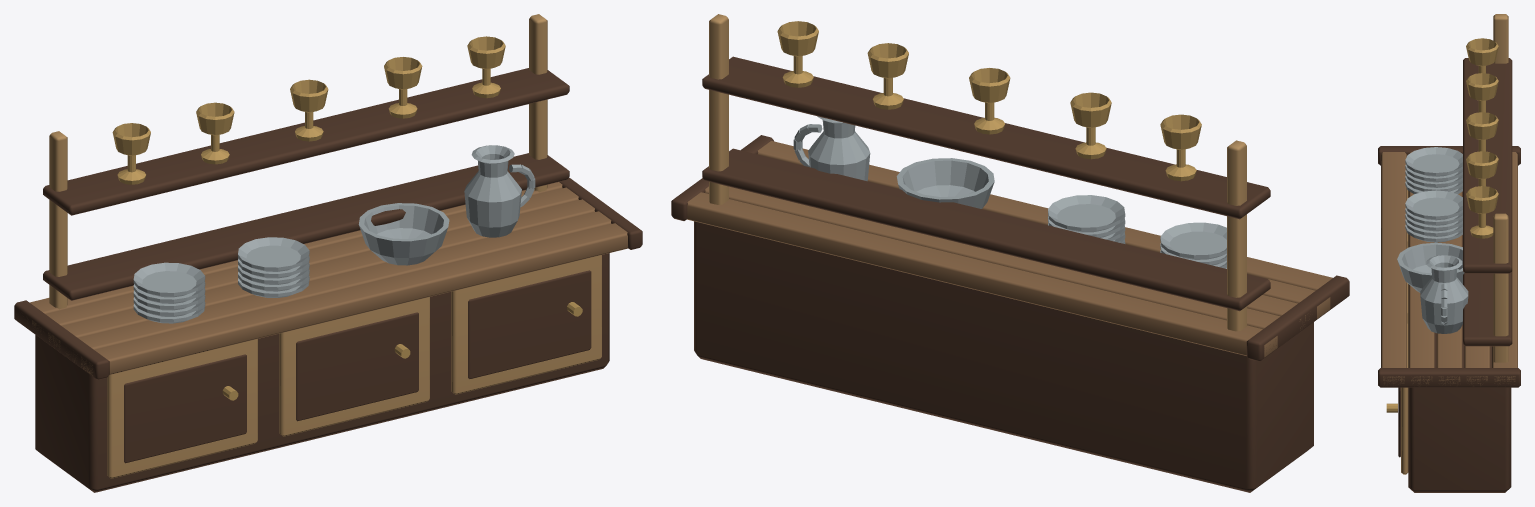
The model's file is feast_sideboard.glb.
3 renders of one model, left to right at view 1: azimuth 30°, elevation 25°; view 2: azimuth 150°, elevation 25°; view 3: azimuth 270°, elevation 25°, orthographic. The views are drawn at different scales.
Parts seen in each view (by area): view 1: feast_sideboard; view 2: feast_sideboard; view 3: feast_sideboard.
Part boxes in pixels (left/top/right/bottom): feast_sideboard: left=14, top=14, right=642, bottom=492; feast_sideboard: left=671, top=14, right=1349, bottom=492; feast_sideboard: left=1378, top=14, right=1520, bottom=492.
Size of the model in its own units: 5.25 by 2.92 by 1.39.
